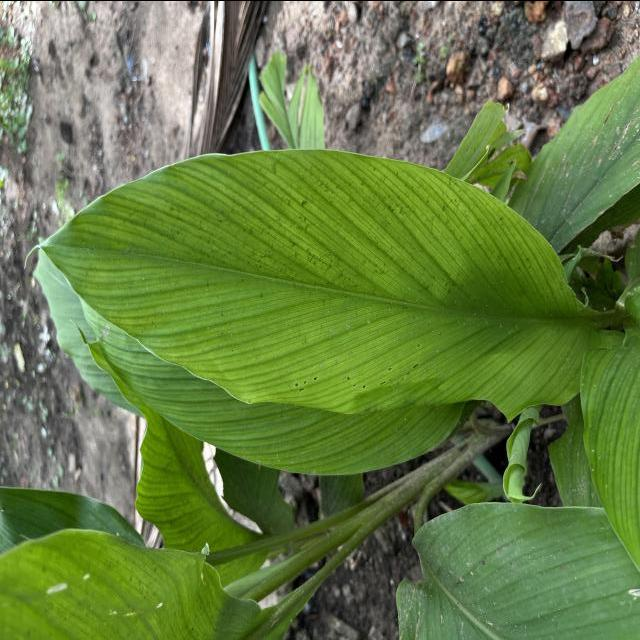Curcuma longa: (19, 143, 610, 430)
